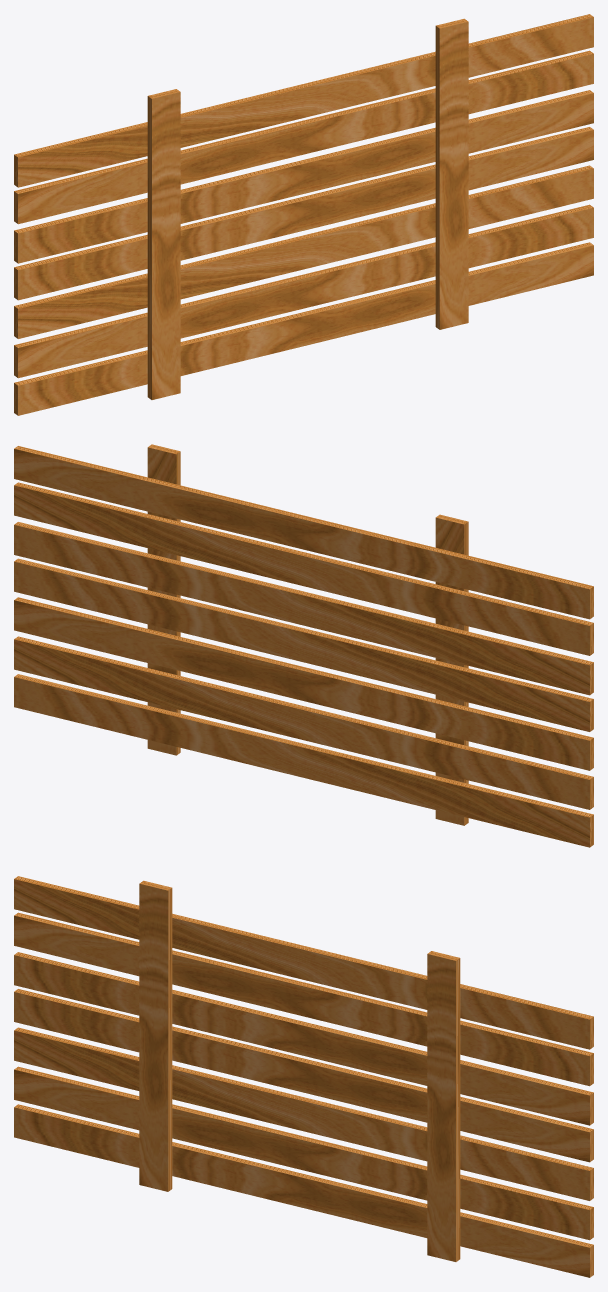
Rendered from schuttingRecht.glb.
The picture shows the model from 3 angles, top to bottom: view 1: azimuth 30°, elevation 25°; view 2: azimuth 150°, elevation 25°; view 3: azimuth 330°, elevation 25°; orthographic projection.
Parts seen in each view (by area): view 1: Cube.001, Cube.003, Cube.004, Cube.005, Cube, Cube.006, Cube.002, Cube.007, Cube.008; view 2: Cube, Cube.002, Cube.006, Cube.003, Cube.004, Cube.005, Cube.001, Cube.007, Cube.008; view 3: Cube.001, Cube.003, Cube.004, Cube.005, Cube, Cube.006, Cube.002, Cube.008, Cube.007.
Boxes of the visible parts, box(x1,y1,x2,y2) form: Cube.001: box(14, 204, 593, 378); Cube.003: box(14, 90, 593, 263); Cube.004: box(14, 50, 593, 224); Cube.005: box(14, 14, 593, 187); Cube: box(14, 242, 593, 415); Cube.006: box(14, 127, 593, 300); Cube.002: box(14, 165, 593, 338); Cube.007: box(147, 89, 180, 399); Cube.008: box(435, 18, 468, 329); Cube: box(14, 674, 593, 847); Cube.002: box(14, 597, 593, 770); Cube.006: box(14, 558, 593, 731); Cube.003: box(14, 522, 593, 695); Cube.004: box(14, 482, 593, 655); Cube.005: box(14, 446, 593, 619); Cube.001: box(14, 636, 593, 809); Cube.007: box(435, 514, 468, 825); Cube.008: box(147, 444, 180, 755); Cube.001: box(14, 1066, 593, 1240); Cube.003: box(14, 952, 593, 1125); Cube.004: box(14, 912, 593, 1086); Cube.005: box(14, 876, 593, 1049); Cube: box(14, 1104, 593, 1277); Cube.006: box(14, 989, 593, 1162); Cube.002: box(14, 1027, 593, 1200); Cube.008: box(427, 951, 460, 1261); Cube.007: box(139, 880, 172, 1191).
Bounding box in the file's own units: 4 × 2 × 0.1.
Materials: 9 (9 with a texture image).
